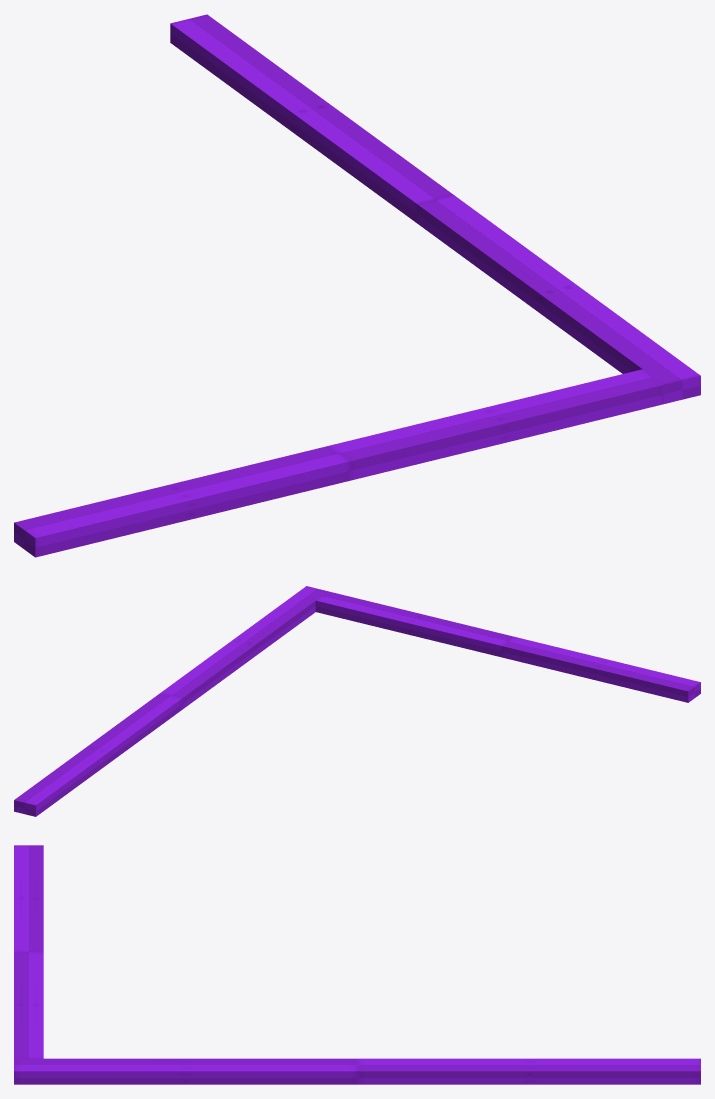
File: MilleniumWall.gltf
3 renders of one model, top to bottom at view 1: azimuth 30°, elevation 25°; view 2: azimuth 150°, elevation 25°; view 3: azimuth 270°, elevation 25°, orthographic. The views are drawn at different scales.
Parts seen in each view (by area): view 1: MillenniumWall32, MillenniumWall22; view 2: MillenniumWall32, MillenniumWall22; view 3: MillenniumWall32, MillenniumWall22.
Boxes of the visible parts, bbox=[...] form: MillenniumWall32: bbox=[170, 14, 700, 403]; MillenniumWall22: bbox=[14, 369, 663, 557]; MillenniumWall32: bbox=[14, 586, 327, 816]; MillenniumWall22: bbox=[315, 591, 700, 702]; MillenniumWall32: bbox=[14, 1058, 700, 1084]; MillenniumWall22: bbox=[14, 845, 43, 1058].
Bounding box in the file's own units: 36 × 1 × 46.25.
1 material, 1 textured.
